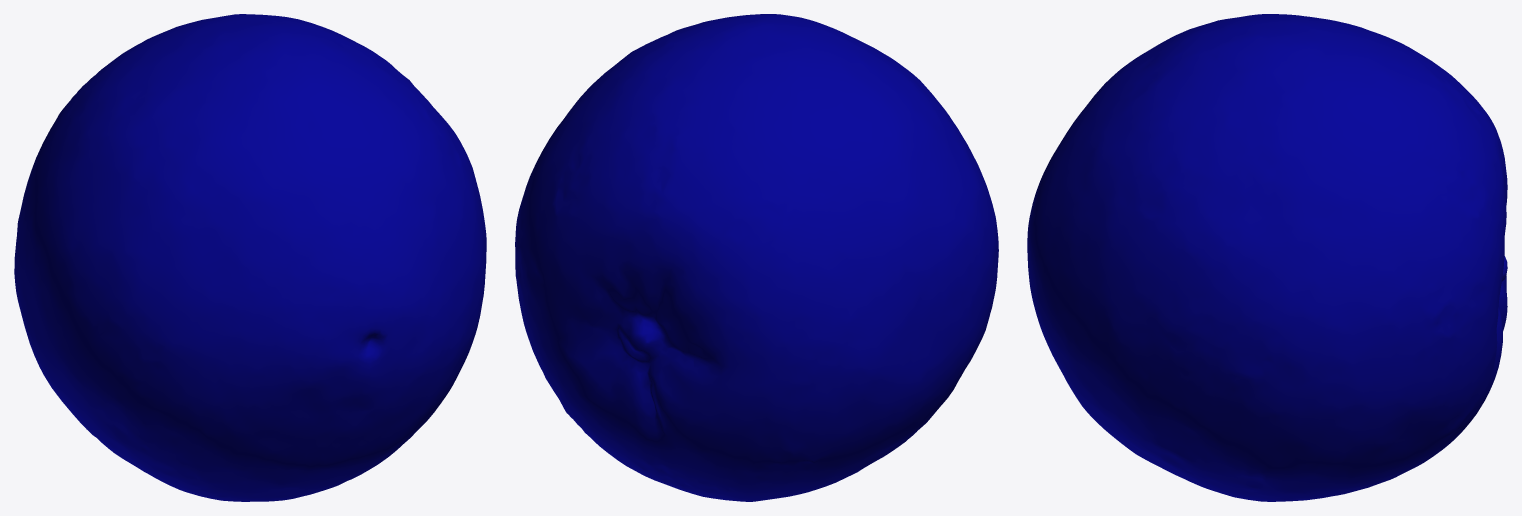
3 views of the same model, side by side, from view 1: azimuth 30°, elevation 25°; view 2: azimuth 150°, elevation 25°; view 3: azimuth 270°, elevation 25° (orthographic). The views are drawn at different scales.
Size of the model in its own units: 0.0722 by 0.074 by 0.0714.
